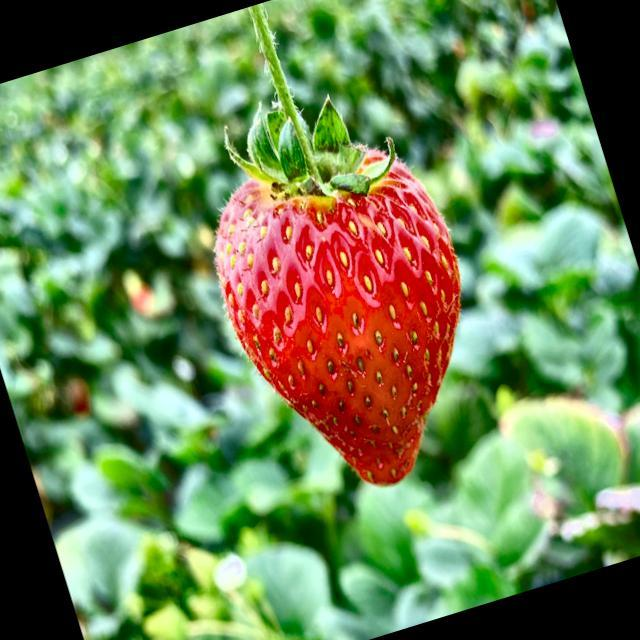strawberry: (216, 6, 460, 484)
